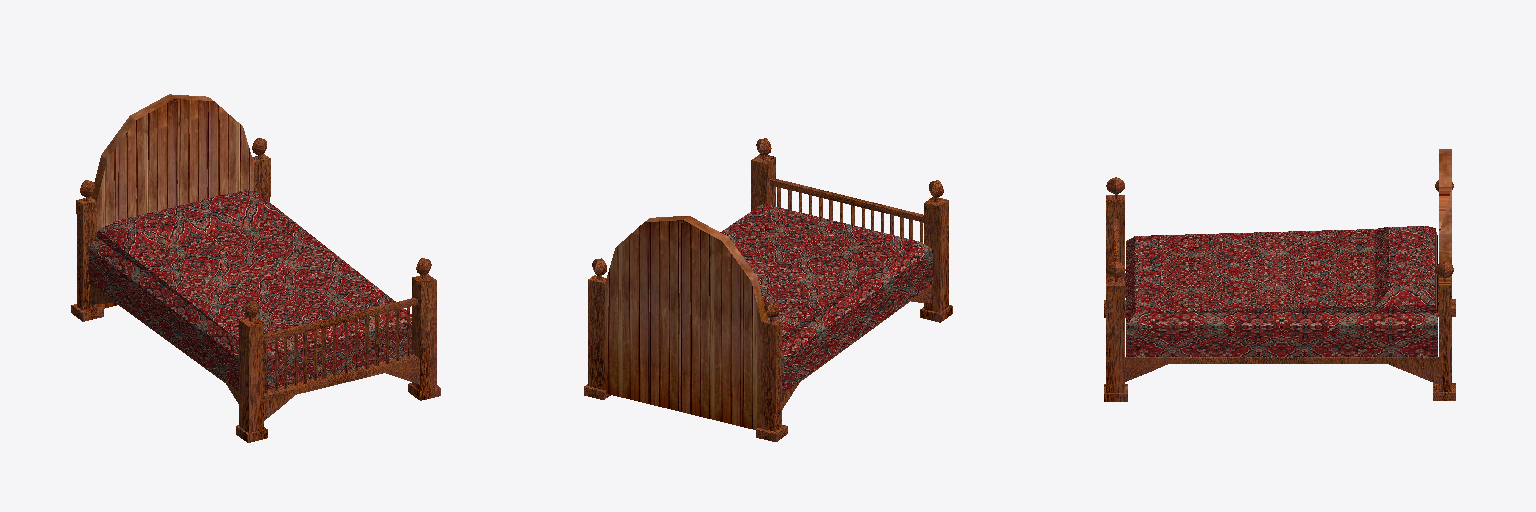
3 renders of one model, left to right at view 1: azimuth 30°, elevation 25°; view 2: azimuth 150°, elevation 25°; view 3: azimuth 270°, elevation 25°, orthographic.
Parts seen in each view (by area): view 1: br_spread1, bed_1; view 2: bed_1, br_spread1; view 3: br_spread1, bed_1.
Part boxes in pixels (bbox=[...]): br_spread1: bbox=[89, 189, 411, 390]; bed_1: bbox=[71, 94, 440, 442]; bed_1: bbox=[584, 138, 952, 441]; br_spread1: bbox=[720, 203, 932, 393]; br_spread1: bbox=[1126, 226, 1437, 356]; bed_1: bbox=[1104, 149, 1455, 401].
Size of the model in its own units: 72.31 by 71 by 115.
2 materials, 2 textured.